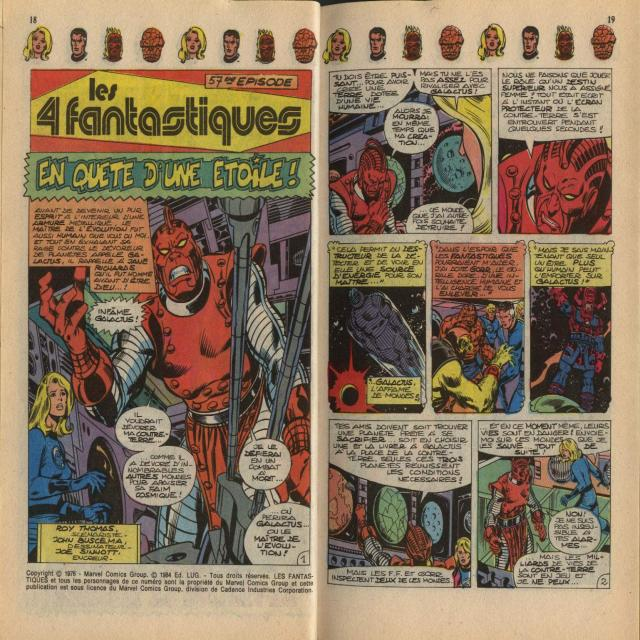comic_panel: (26, 155, 314, 565), (327, 68, 493, 238), (327, 417, 473, 589), (477, 418, 612, 592), (496, 68, 613, 236), (327, 241, 429, 415), (430, 239, 528, 415), (528, 238, 613, 416), (328, 137, 404, 234)
